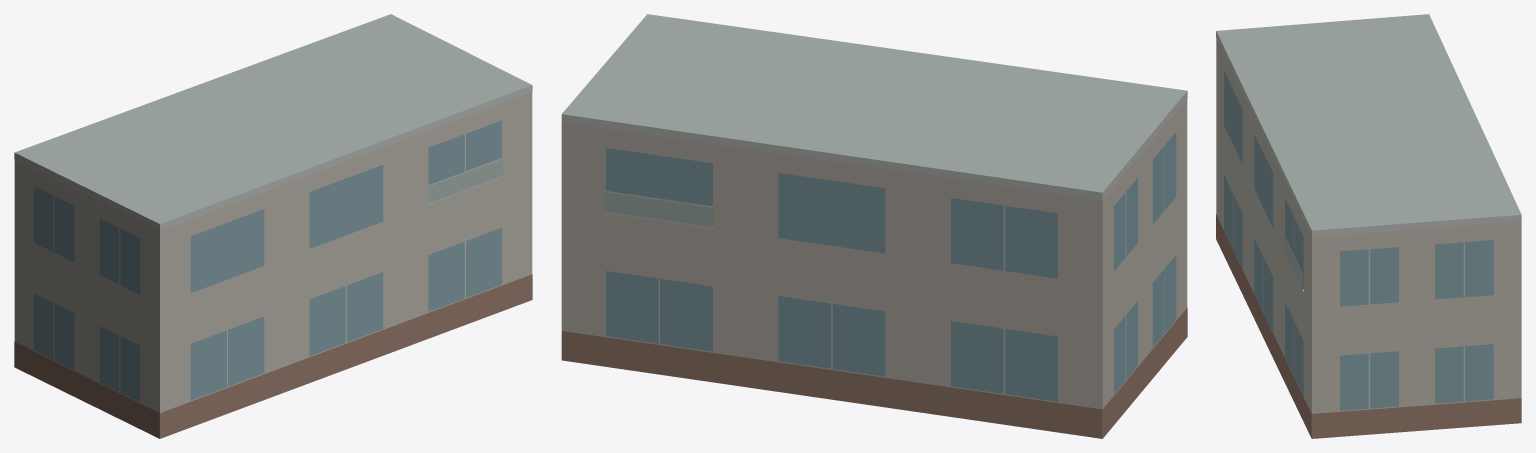
The model's file is survey-upis-32616225.glb.
3 views of the same model, side by side, from view 1: azimuth 30°, elevation 25°; view 2: azimuth 150°, elevation 25°; view 3: azimuth 270°, elevation 25° (orthographic). The views are drawn at different scales.
Visible parts, largest first — view 1: survey-upis-32616225.tmp; view 2: survey-upis-32616225.tmp; view 3: survey-upis-32616225.tmp.
Boxes of the visible parts, x1,y1,x2,y2 form: survey-upis-32616225.tmp: [14, 14, 532, 438]; survey-upis-32616225.tmp: [561, 14, 1187, 438]; survey-upis-32616225.tmp: [1216, 14, 1521, 438].
Bounding box in the file's own units: 17.4 × 7.8 × 10.38.
